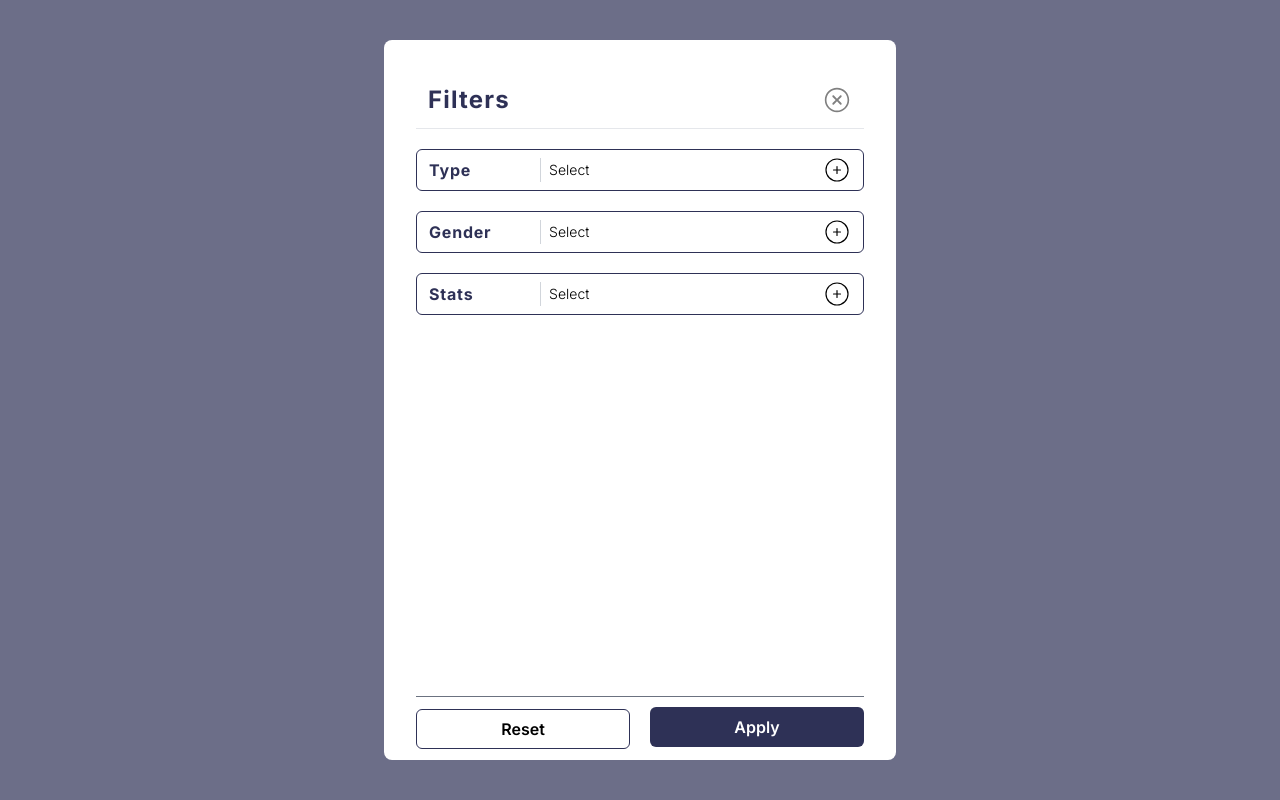
Test case: FilterOptionsModal › renderFilterContent displays all items
Click the button with test id "type-button".
click(485, 170)  # box x1=416 y1=149 x2=864 y2=191
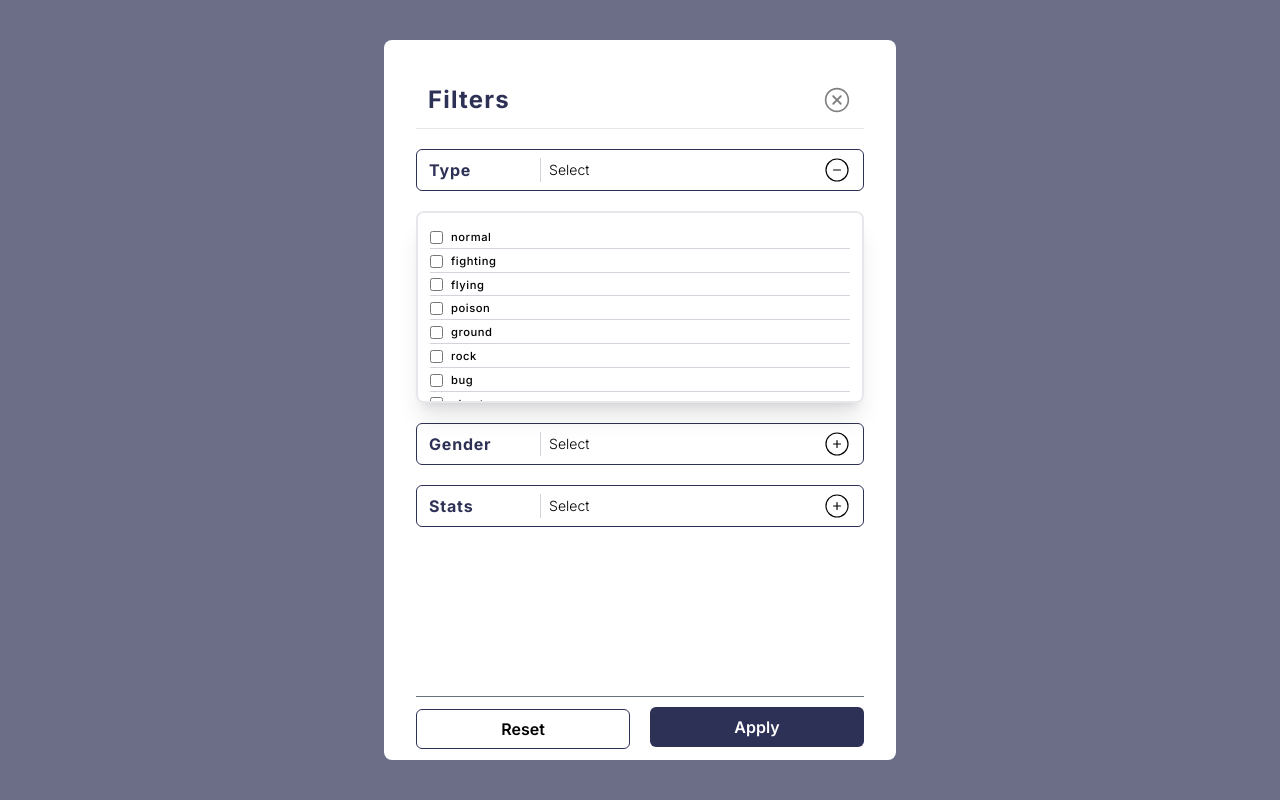
Expected: the text "normal" is shown, x1=451 y1=230 x2=491 y2=244
Expected: the text "fighting" is shown, x1=451 y1=254 x2=496 y2=268
Expected: the text "flying" is shown, x1=451 y1=278 x2=484 y2=292
